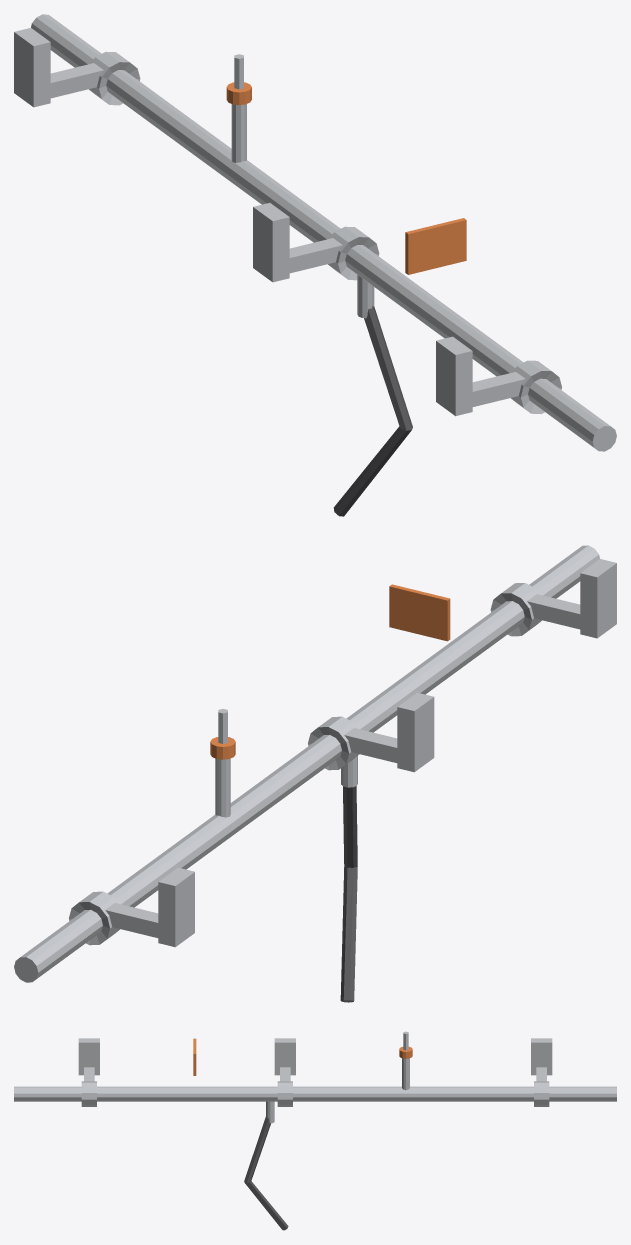
The model's file is underground-mine-and-shaft-works-water-line-c1b7c942.glb.
The picture shows the model from 3 angles, top to bottom: view 1: azimuth 30°, elevation 25°; view 2: azimuth 150°, elevation 25°; view 3: azimuth 270°, elevation 25°; orthographic projection. The views are drawn at different scales.
Visible parts, largest first — view 1: water-line; view 2: water-line; view 3: water-line.
Boxes of the visible parts, <box> form: water-line: <box>14,14,616,516</box>; water-line: <box>14,545,616,1002</box>; water-line: <box>14,1031,616,1230</box>.
Size of the model in its own units: 0.4848 by 1.46 by 4.
